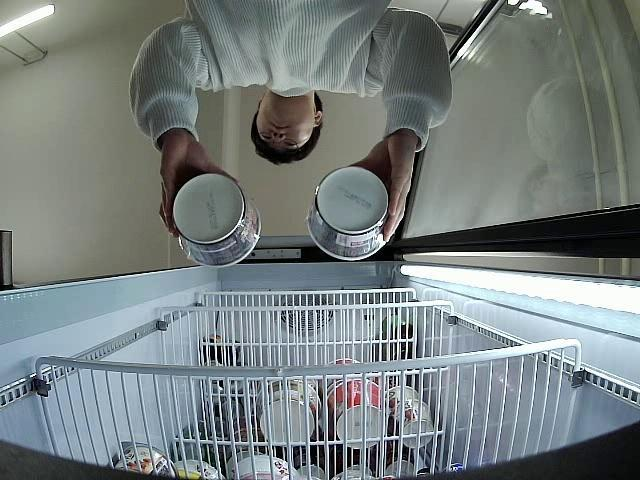07_buldak_L: (170, 174, 263, 268), (306, 164, 388, 263)
